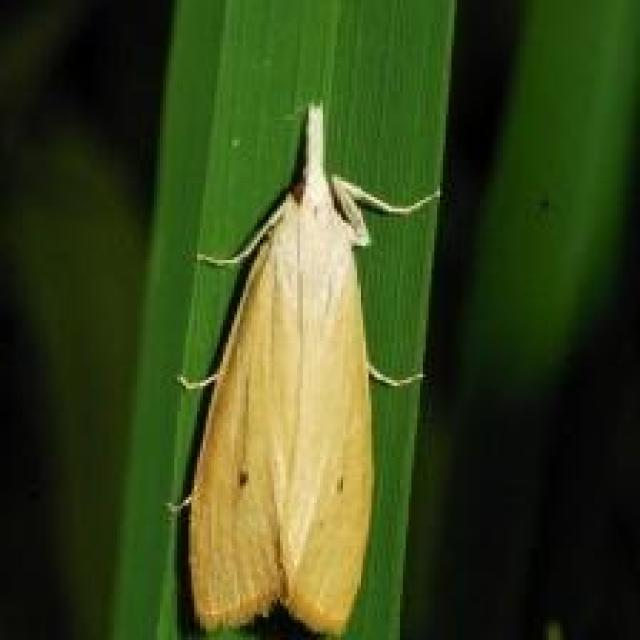yellow-stem-borer: (131, 59, 453, 632)
